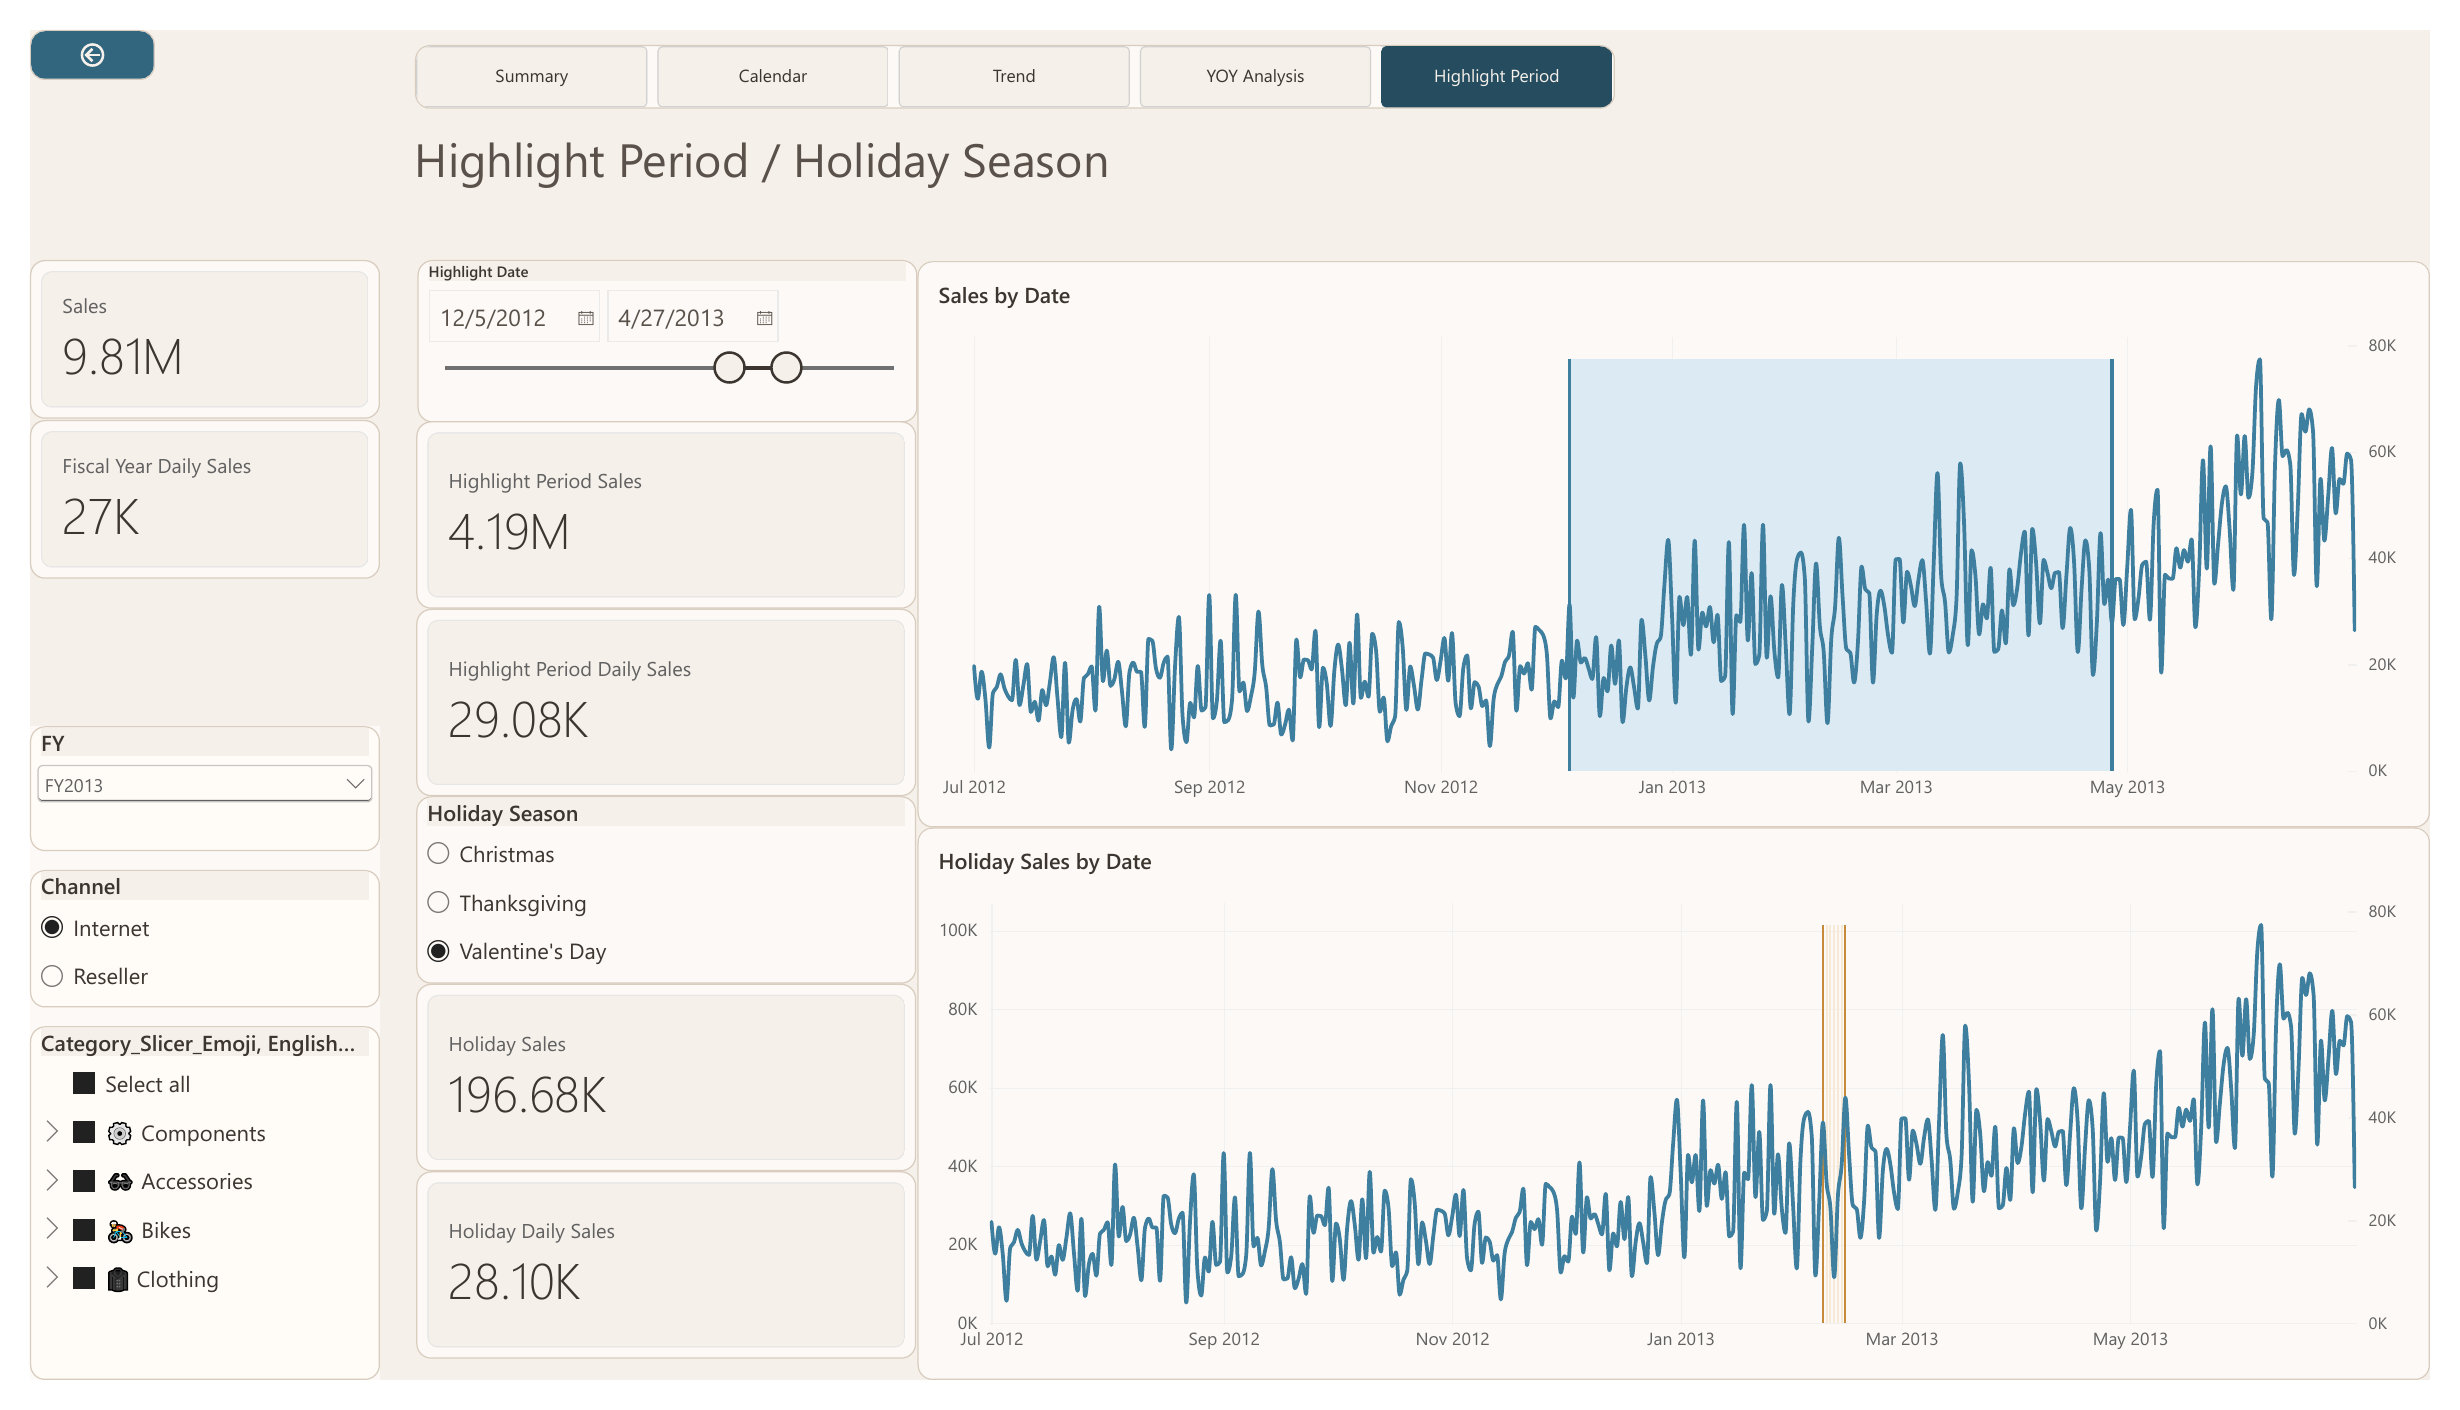

Layout of this report page (visuals, bound fields, positions):
{"tool":"powerbi","page":{"name":"Highlight Period","canvas":[1920,1080],"ordinal":4},"visuals":[{"type":"textbox","box":[308,78,1500,60],"z":0},{"type":"slicer","fields":{"Values":["Date.FY"]},"box":[0,557.1,280,100],"z":0,"group":"g1"},{"type":"group","id":"g1","title":"Group 1","box":[0,557.1,280.4,523.2],"z":1000},{"type":"slicer","fields":{"Values":["Sales.Channel"]},"box":[0,672.1,280,110],"z":1000,"group":"g1"},{"type":"cardVisual","title":"Sales","fields":{"Data":["_Measures.Sales"]},"box":[0,184,280,127],"z":2000},{"type":"slicer","fields":{"Values":["DimProductCategory.Category_Slicer_Emoji","DimProductSubcategory.EnglishProductSubcategoryName"]},"box":[0,797.1,280,283],"z":2000,"group":"g1"},{"type":"cardVisual","title":"Sales","fields":{"Data":["_Measures.Fiscal Year Daily Sales"]},"box":[0,312,280,127],"z":3000},{"type":"slicer","fields":{"Values":["Highlight Date.Date"]},"box":[310,184,400,130],"z":4000},{"type":"cardVisual","fields":{"Data":["_Measures.Highlight Period Sales"]},"box":[309,313,400,150],"z":5000},{"type":"cardVisual","fields":{"Data":["_Measures.Highlight Period Daily Sales"]},"box":[309,463,400,150],"z":6000},{"type":"slicer","fields":{"Values":["Holiday.Holiday"]},"box":[309,613,400,150],"z":7000},{"type":"cardVisual","fields":{"Data":["_Measures.Holiday Sales"]},"box":[309,763,400,150],"z":8000},{"type":"cardVisual","fields":{"Data":["_Measures.Holiday Daily Sales"]},"box":[309,913,400,150],"z":9000},{"type":"lineClusteredColumnComboChart","title":"Sales by Date","fields":{"Category":["Date.Date"],"Y":["_Measures.Highlight Band Roll"],"Y2":["_Measures.Sales"]},"box":[710,185,1210,452.5],"z":10000},{"type":"lineClusteredColumnComboChart","title":"Holiday Sales by Date","fields":{"Category":["Date.Date"],"Y":["_Measures.Holiday Band"],"Y2":["_Measures.Sales"]},"box":[710,638,1210,442],"z":11000},{"type":"pageNavigator","box":[308,12,960,51],"z":12000},{"type":"actionButton","box":[0,0,100,40],"z":12001}]}

Visuals, with their boxes in screenshot pixels (x1, y1, x2, y2), scaled from the page's 1920x1080 canvas onto the 2460x1410 screenshot:
textbox: (x1=395, y1=102, x2=2316, y2=180)
slicer - Date.FY: (x1=0, y1=727, x2=359, y2=858)
"Group 1" group: (x1=0, y1=727, x2=359, y2=1409)
slicer - Sales.Channel: (x1=0, y1=877, x2=359, y2=1021)
"Sales" cardVisual: (x1=0, y1=240, x2=359, y2=406)
slicer - DimProductCategory.Category_Slicer_Emoji x DimProductSubcategory.EnglishProductSubcategoryName: (x1=0, y1=1041, x2=359, y2=1409)
"Sales" cardVisual: (x1=0, y1=407, x2=359, y2=573)
slicer - Highlight Date.Date: (x1=397, y1=240, x2=910, y2=410)
cardVisual - _Measures.Highlight Period Sales: (x1=396, y1=409, x2=908, y2=604)
cardVisual - _Measures.Highlight Period Daily Sales: (x1=396, y1=604, x2=908, y2=800)
slicer - Holiday.Holiday: (x1=396, y1=800, x2=908, y2=996)
cardVisual - _Measures.Holiday Sales: (x1=396, y1=996, x2=908, y2=1192)
cardVisual - _Measures.Holiday Daily Sales: (x1=396, y1=1192, x2=908, y2=1388)
"Sales by Date" lineClusteredColumnComboChart: (x1=910, y1=242, x2=2459, y2=832)
"Holiday Sales by Date" lineClusteredColumnComboChart: (x1=910, y1=833, x2=2459, y2=1409)
pageNavigator: (x1=395, y1=16, x2=1625, y2=82)
actionButton: (x1=0, y1=0, x2=128, y2=52)
